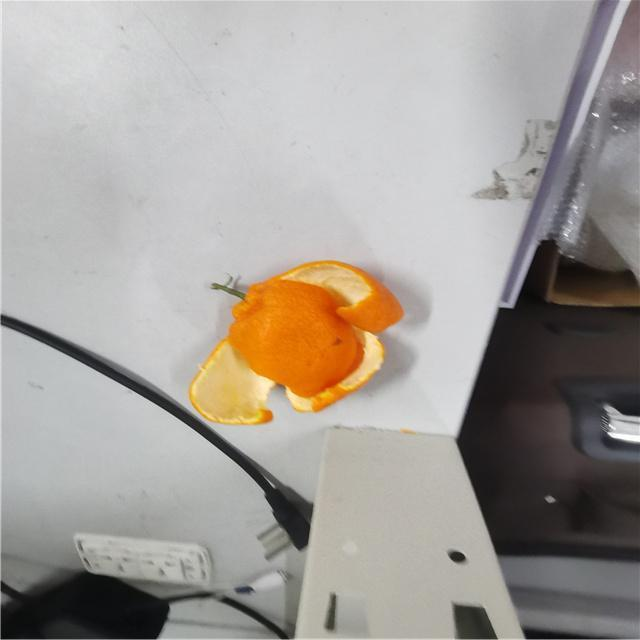orange peel: (187, 260, 407, 425)
